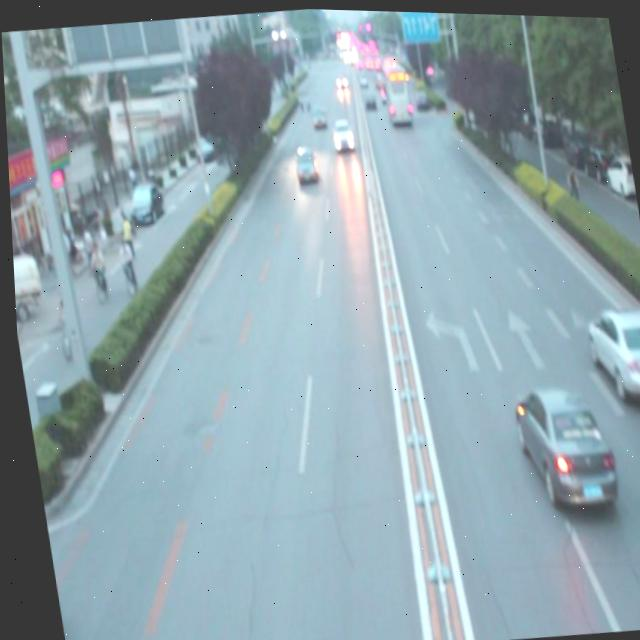car: (506, 377, 613, 512), (582, 298, 640, 399), (291, 142, 318, 182)
